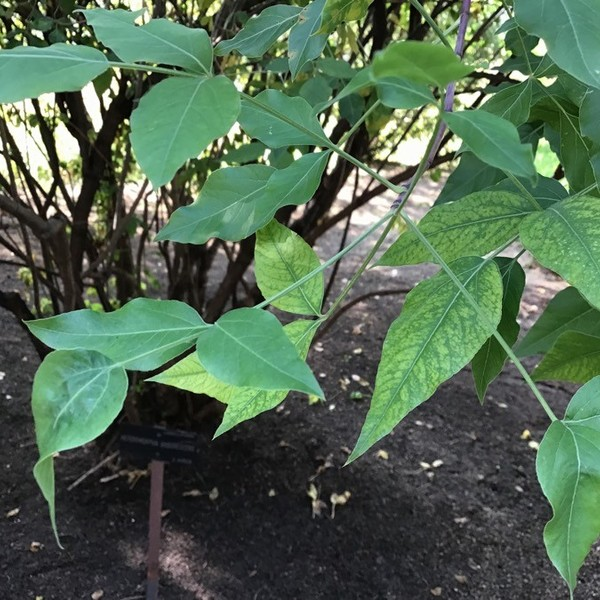obstacle: (60, 37, 585, 514)
